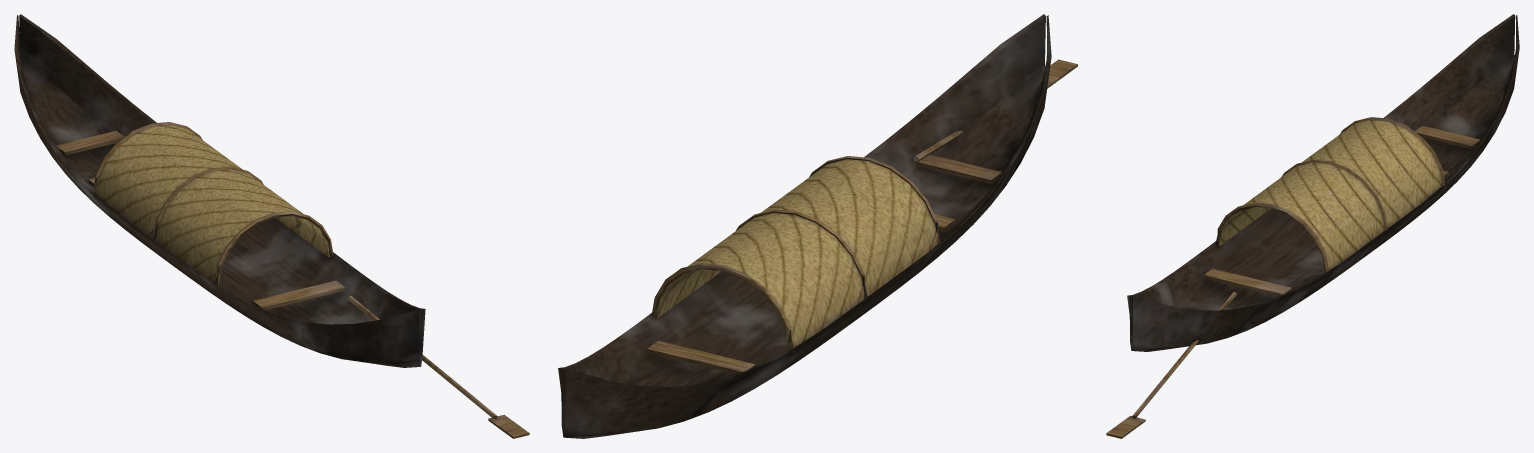
Rendered from nouka.glb.
The picture shows the model from 3 angles, left to right: view 1: azimuth 30°, elevation 25°; view 2: azimuth 150°, elevation 25°; view 3: azimuth 330°, elevation 25°; orthographic projection. The views are drawn at different scales.
Visible parts, largest first — view 1: body; view 2: body; view 3: body.
Part boxes in pixels (x1,y1,x2,y2): body: [14, 14, 529, 438]; body: [558, 14, 1077, 438]; body: [1106, 14, 1519, 438].
Bounding box in the file's own units: 2.02 × 1.59 × 12.85.
1 material, 1 textured.
